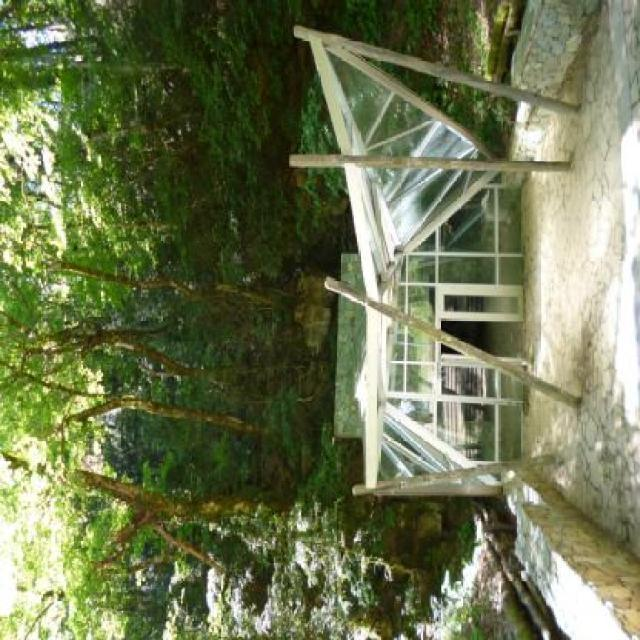stair: (430, 366, 492, 457)
